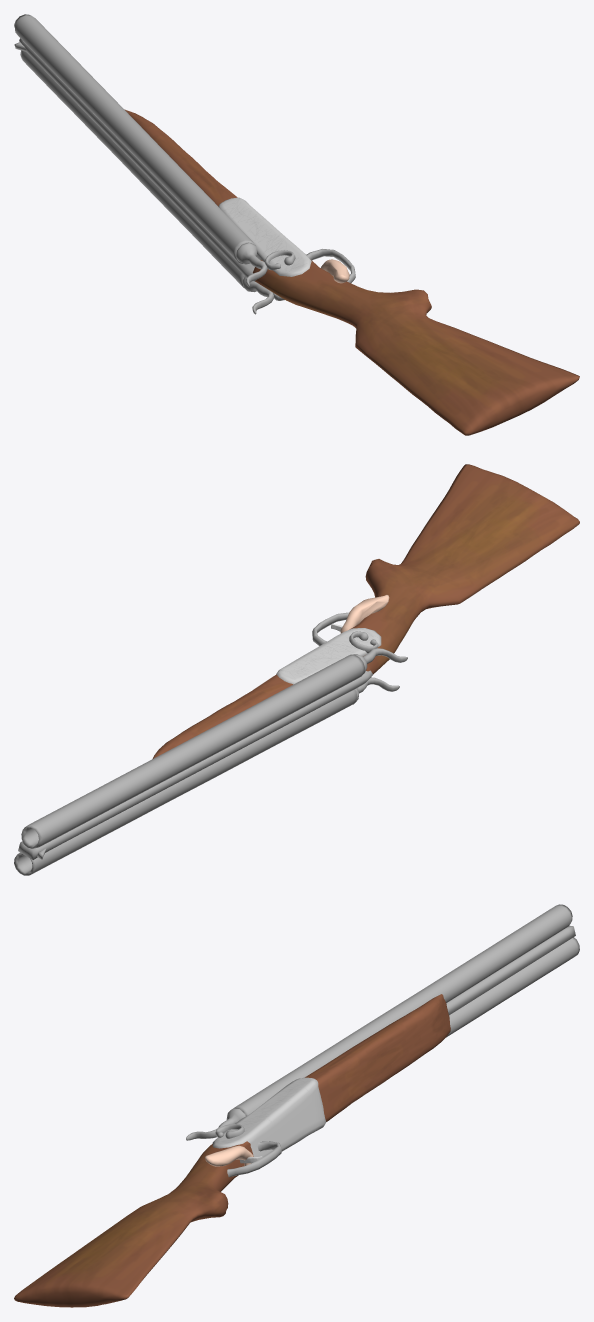
The model's file is shotgun.fbx.
3 renders of one model, top to bottom at view 1: azimuth 30°, elevation 25°; view 2: azimuth 150°, elevation 25°; view 3: azimuth 330°, elevation 25°, orthographic.
Parts seen in each view (by area): view 1: Retopo_shotgun wood, Retopo_Shotgun Barrel, Retopo_shotgun metal, Retopo_shotgun hammer; view 2: Retopo_shotgun wood, Retopo_Shotgun Barrel, Retopo_shotgun metal, Retopo_shotgun hammer, Retopo_shotgun finger.001; view 3: Retopo_shotgun wood, Retopo_Shotgun Barrel, Retopo_shotgun metal, Retopo_shotgun hammer, Retopo_shotgun finger.001.
Part boxes in pixels (bbox=[...]): Retopo_shotgun wood: bbox=[124, 109, 579, 435]; Retopo_Shotgun Barrel: bbox=[14, 14, 355, 288]; Retopo_shotgun metal: bbox=[218, 197, 311, 276]; Retopo_shotgun hammer: bbox=[236, 242, 295, 314]; Retopo_shotgun wood: bbox=[152, 464, 579, 758]; Retopo_Shotgun Barrel: bbox=[14, 612, 372, 875]; Retopo_shotgun metal: bbox=[276, 628, 381, 684]; Retopo_shotgun hammer: bbox=[349, 631, 407, 704]; Retopo_shotgun finger.001: bbox=[340, 594, 389, 633]; Retopo_shotgun wood: bbox=[14, 994, 450, 1307]; Retopo_Shotgun Barrel: bbox=[227, 904, 579, 1177]; Retopo_shotgun metal: bbox=[212, 1077, 326, 1157]; Retopo_shotgun hammer: bbox=[186, 1108, 245, 1140]; Retopo_shotgun finger.001: bbox=[205, 1145, 253, 1166].
Bounding box in the file's own units: 109 × 51.12 × 686.
